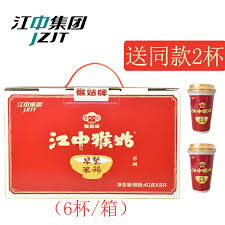box: (5, 91, 178, 197)
cup: (188, 84, 216, 132), (188, 143, 215, 191)
